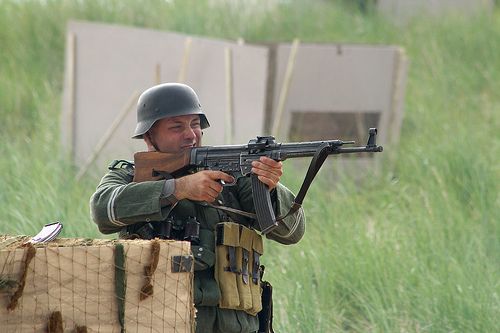rifle: (224, 131, 388, 167)
rifle in hand: (197, 128, 393, 210)
